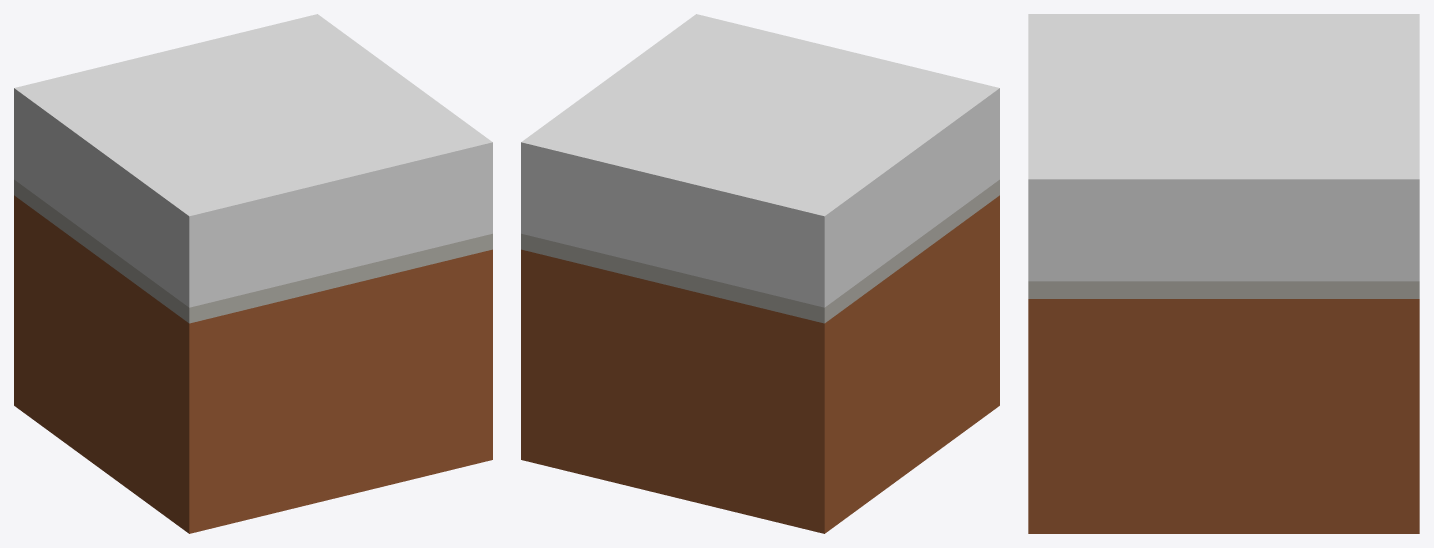
Rendered from pavingtile1.fbx.
3 views of the same model, side by side, from view 1: azimuth 30°, elevation 25°; view 2: azimuth 150°, elevation 25°; view 3: azimuth 270°, elevation 25° (orthographic). The views are drawn at different scales.
Visible parts, largest first — view 1: Cube, Cube.001, Cube.002; view 2: Cube, Cube.001, Cube.002; view 3: Cube.001, Cube, Cube.002.
Boxes of the visible parts, x1,y1,x2,y2 form: Cube: [14, 195, 492, 533]; Cube.001: [14, 14, 492, 307]; Cube.002: [14, 179, 492, 323]; Cube: [521, 195, 999, 533]; Cube.001: [521, 14, 999, 307]; Cube.002: [521, 179, 999, 323]; Cube.001: [1028, 14, 1419, 281]; Cube: [1028, 299, 1419, 533]; Cube.002: [1028, 281, 1419, 298].
Bounding box in the file's own units: 50 × 50 × 50.
